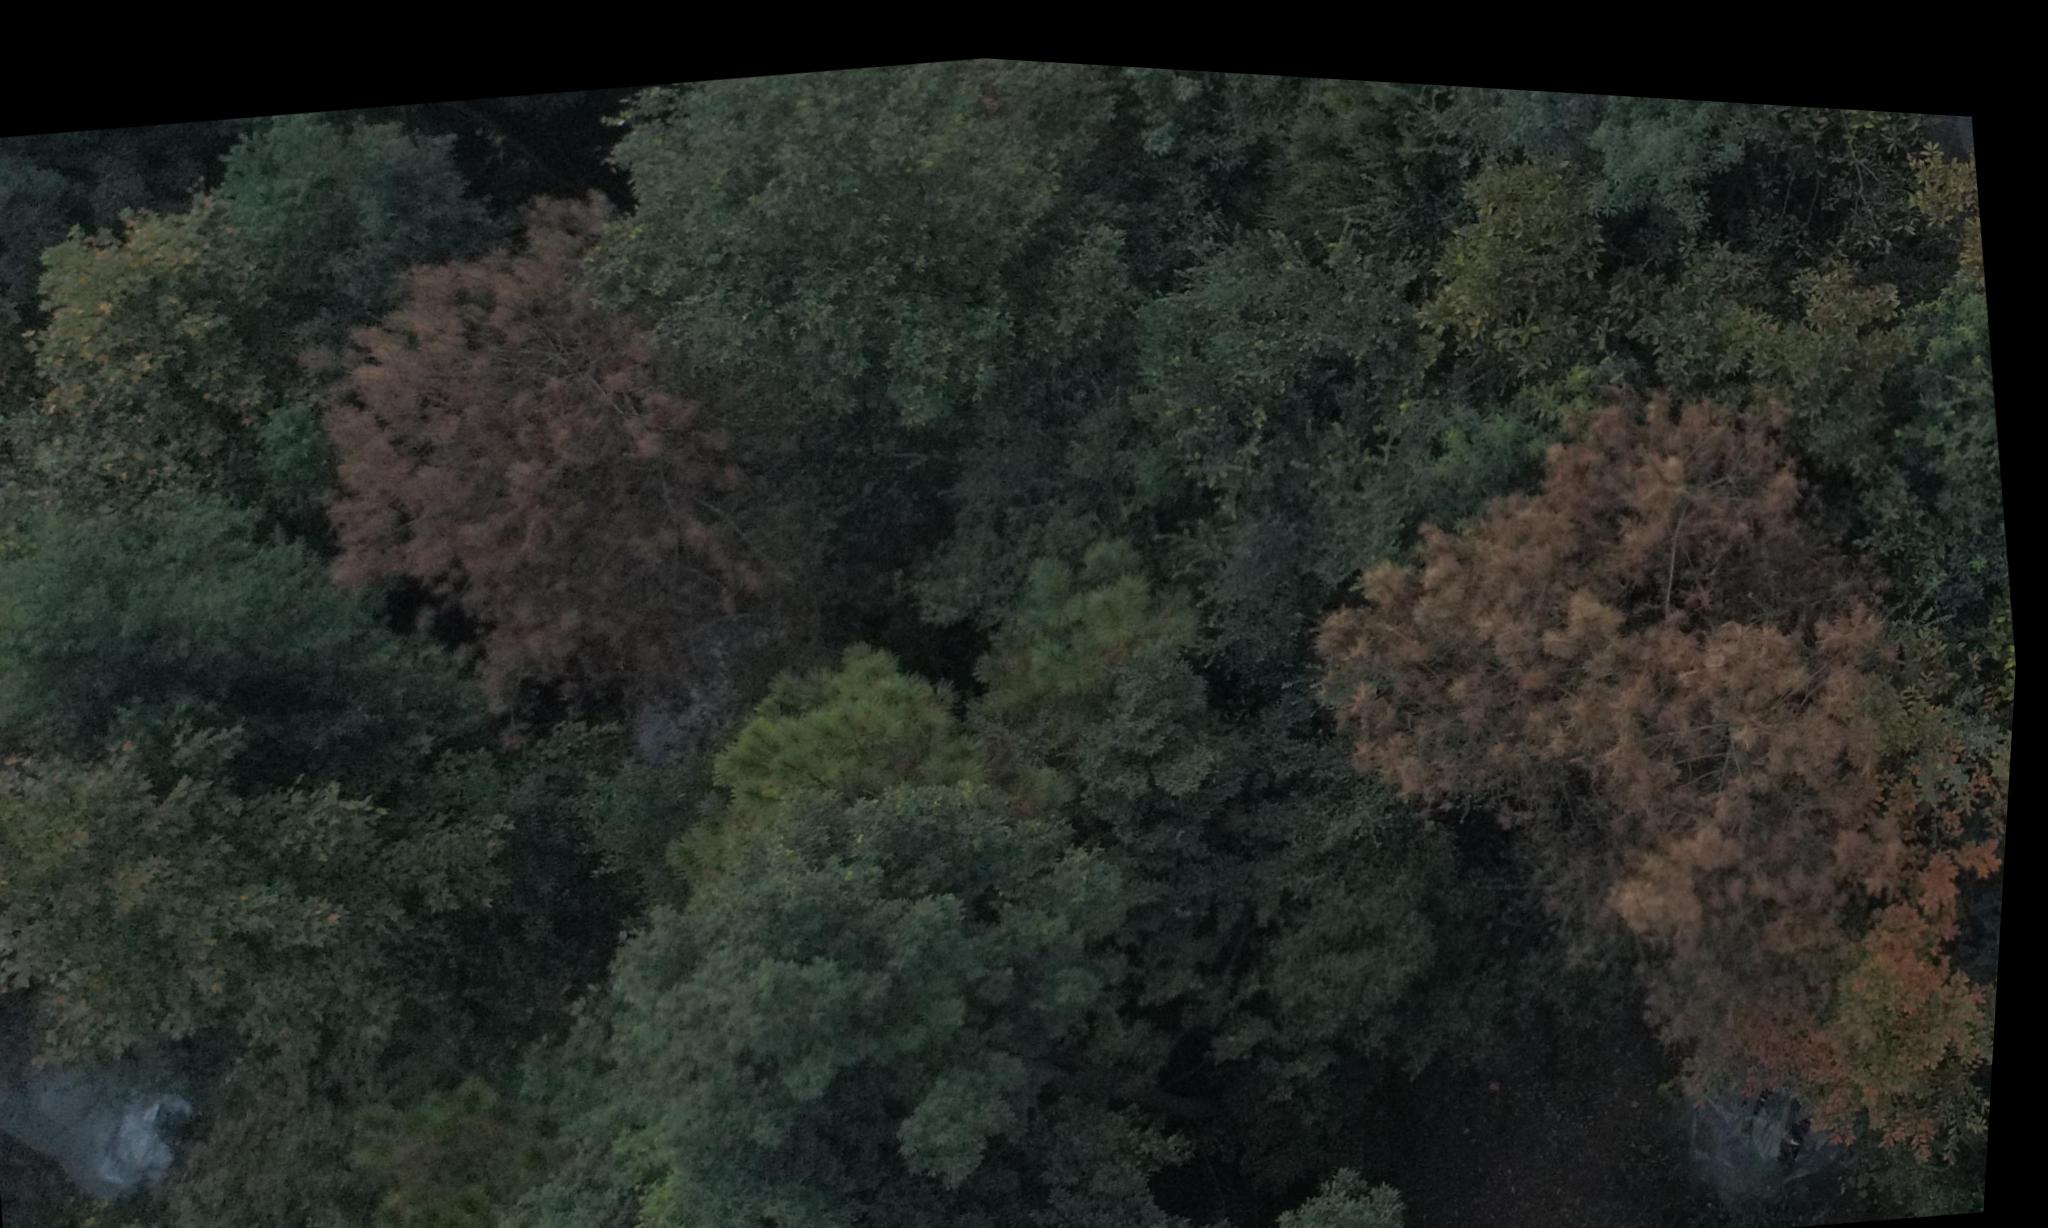heavy: (1264, 327, 1940, 984), (280, 156, 808, 716)
